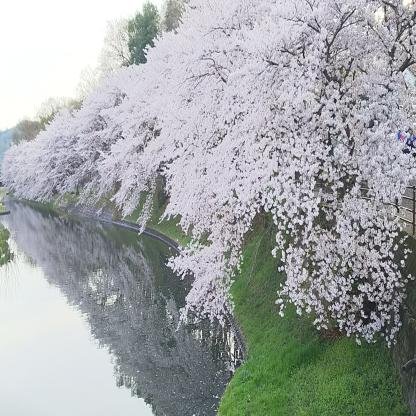Someiyoshino: (1, 2, 414, 338)
